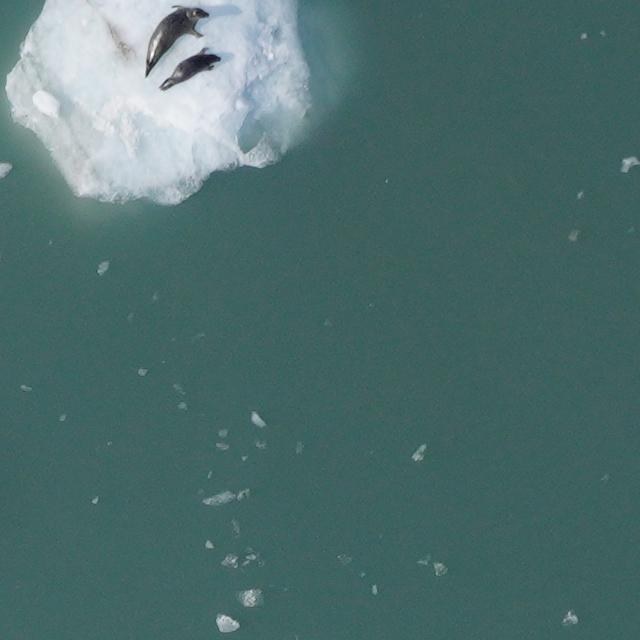seal: (141, 3, 213, 81), (157, 45, 224, 92)
